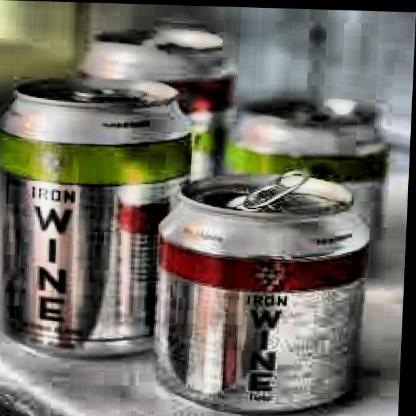Can: (142, 162, 384, 416), (0, 70, 206, 366)
